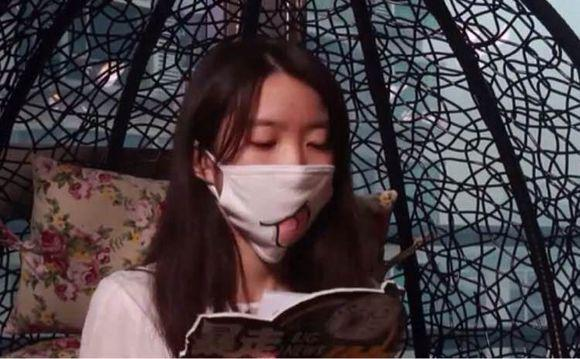OK: (219, 119, 340, 240)
